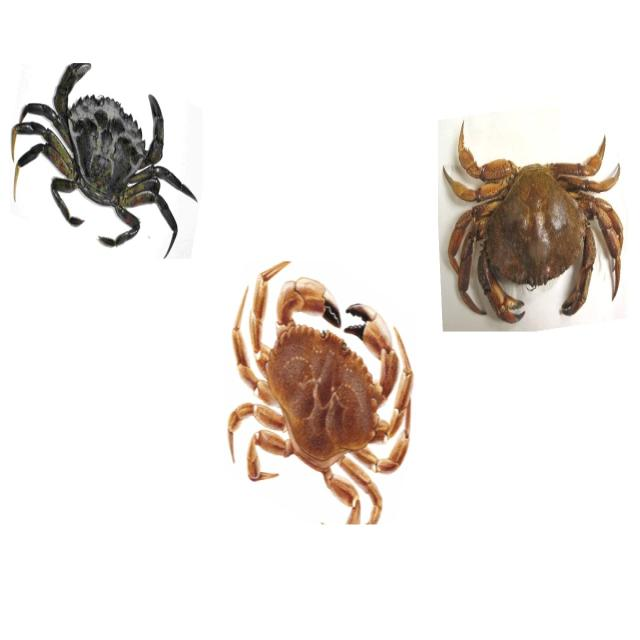egc: (10, 66, 202, 262)
jonah_crab: (226, 256, 416, 534)
rock_crab: (439, 112, 629, 322)
